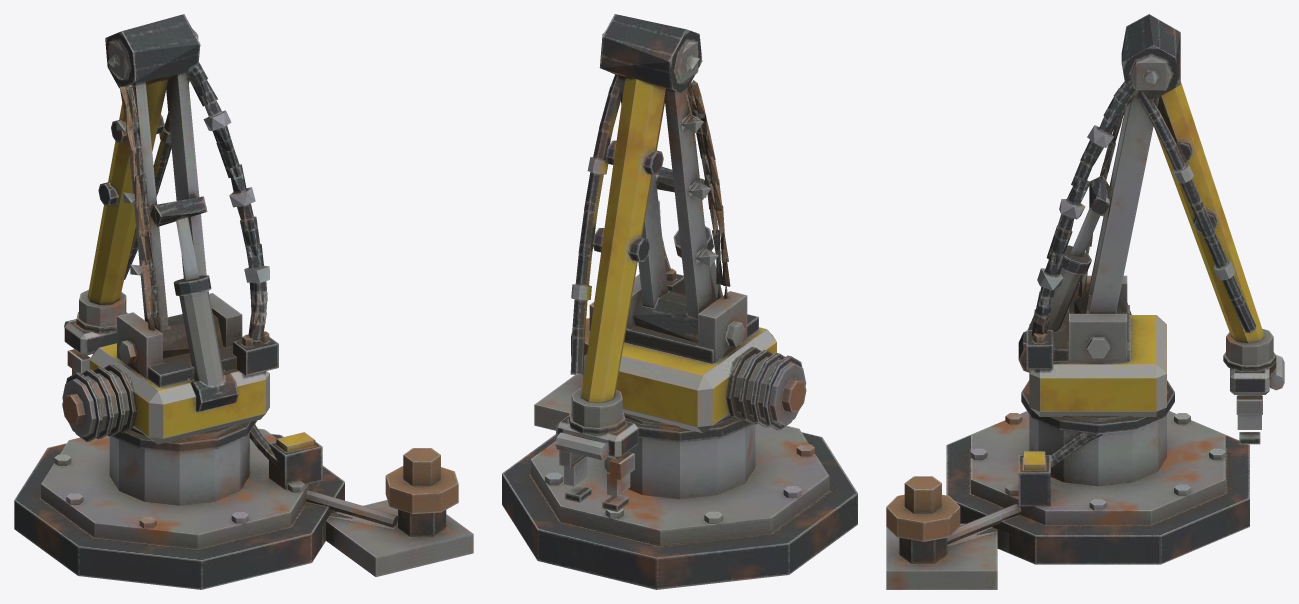
File: braco.glb
The picture shows the model from 3 angles, left to right: view 1: azimuth 30°, elevation 25°; view 2: azimuth 150°, elevation 25°; view 3: azimuth 270°, elevation 25°; orthographic projection. The views are drawn at different scales.
Visible parts, largest first — view 1: braco_base, braco_braco1, braco_giro, braco_braco2, braco_garra; view 2: braco_base, braco_braco1, braco_giro, braco_braco2, braco_garra; view 3: braco_base, braco_braco1, braco_giro, braco_braco2, braco_garra.
Boxes of the visible parts, left/top/right/bottom form: braco_base: left=14, top=420, right=473, bottom=589; braco_braco1: left=105, top=14, right=269, bottom=358; braco_giro: left=62, top=275, right=278, bottom=444; braco_braco2: left=87, top=77, right=189, bottom=304; braco_garra: left=64, top=289, right=127, bottom=374; braco_base: left=502, top=302, right=857, bottom=589; braco_braco1: left=599, top=14, right=730, bottom=342; braco_giro: left=583, top=226, right=806, bottom=433; braco_braco2: left=570, top=74, right=665, bottom=402; braco_garra: left=555, top=388, right=638, bottom=511; braco_base: left=886, top=380, right=1249, bottom=589; braco_braco1: left=1032, top=14, right=1180, bottom=336; braco_giro: left=1018, top=245, right=1166, bottom=416; braco_braco2: left=1137, top=81, right=1264, bottom=343; braco_garra: left=1223, top=328, right=1284, bottom=444.
Size of the model in its own units: 0.6864 by 0.98 by 0.752.
Materials: 1 (1 with a texture image).
